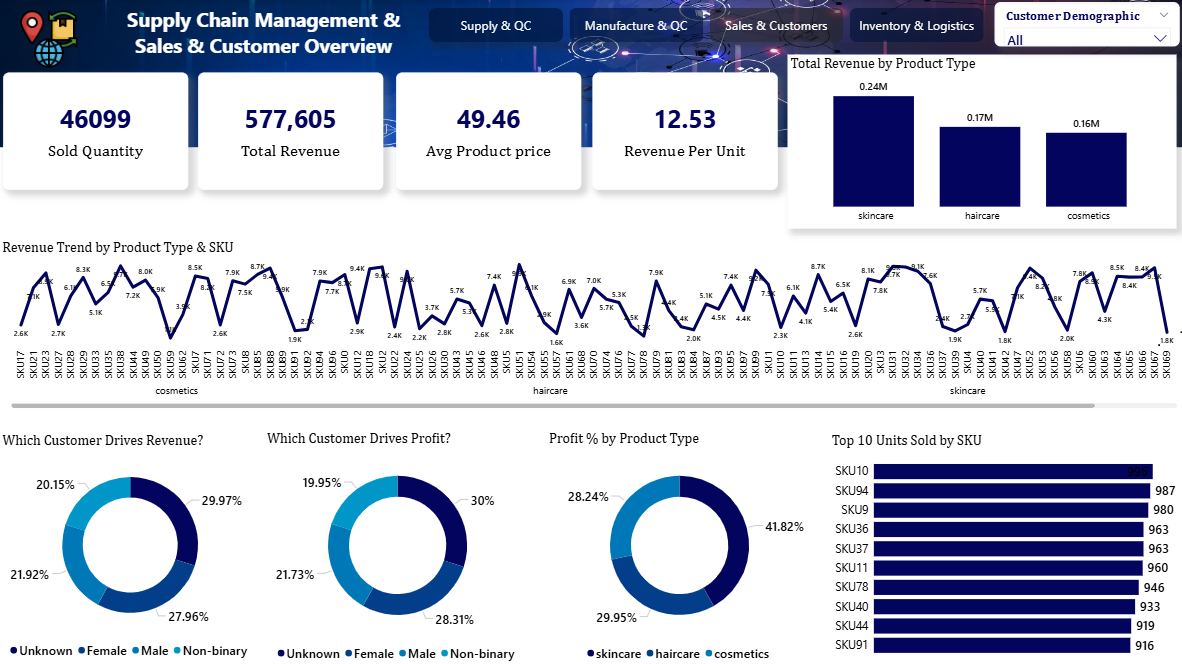

The page's visual inventory and layout, read from the dashboard file:
{"tool":"powerbi","page":{"name":"Sales & Customers","canvas":[1920,1080],"ordinal":2},"visuals":[{"type":"image","box":[0,0,1920,240],"z":0},{"type":"image","box":[0,16,168,96],"z":1000},{"type":"textbox","box":[168,6,528,96],"z":2000},{"type":"cardVisual","fields":{"Data":["supply_chain_data.Sold Quantity"]},"box":[10,120,300,190],"z":3000},{"type":"cardVisual","fields":{"Data":["supply_chain_data.Avg Product price"]},"box":[645,120,300,190],"z":4000},{"type":"cardVisual","fields":{"Data":["supply_chain_data.Revenue Per Unit"]},"box":[965,120,300,190],"z":5000},{"type":"cardVisual","fields":{"Data":["supply_chain_data.Total Revenue"]},"box":[325,120,300,190],"z":6000},{"type":"donutChart","title":"Profit % by Product Type","fields":{"Category":["supply_chain_data.Product_Type"],"Y":["supply_chain_data.Profit %"]},"box":[888,696,432,384],"z":7000},{"type":"textbox","box":[5,340,190,45],"z":8000},{"type":"textbox","box":[660,340,190,45],"z":9000},{"type":"textbox","box":[1310,340,190,45],"z":10000},{"type":"donutChart","title":"Which Customer Drives Revenue?","fields":{"Category":["supply_chain_data.Customer_Demographics"],"Y":["supply_chain_data.Total Revenue"]},"box":[0,696,432,384],"z":11000},{"type":"donutChart","title":"Which Customer Drives Profit?","fields":{"Category":["supply_chain_data.Customer_Demographics"],"Y":["supply_chain_data.Profit"]},"box":[432,696,432,384],"z":12000},{"type":"clusteredColumnChart","title":"Total Revenue by Product Type","fields":{"Category":["supply_chain_data.Product_Type"],"Y":["supply_chain_data.Total Revenue"]},"box":[1280,90,630,282],"z":13000},{"type":"clusteredBarChart","title":"Top 10 Units Sold by SKU","fields":{"Category":["supply_chain_data.SKU"],"Y":["supply_chain_data.Total Units Sold"]},"box":[1344,696,576,384],"z":14000},{"type":"lineChart","title":"Revenue Trend by Product Type & SKU","fields":{"Category":["supply_chain_data.Product_Type","supply_chain_data.SKU"],"Y":["supply_chain_data.Total Revenue"]},"box":[0,384,1920,288],"z":15000},{"type":"pageNavigator","box":[700,15,900,55],"z":16000},{"type":"slicer","fields":{"Values":["supply_chain_data.Customer_Demographics"]},"box":[1615,5,300,72],"z":17000}]}

Visuals, with their boxes in screenshot pixels (x1, y1, x2, y2), scaled from the page's 1920x1080 canvas onto the 1182x664 screenshot:
image: x1=0 y1=0 x2=1181 y2=148
image: x1=0 y1=10 x2=103 y2=69
textbox: x1=103 y1=4 x2=428 y2=63
cardVisual - supply_chain_data.Sold Quantity: x1=6 y1=74 x2=191 y2=191
cardVisual - supply_chain_data.Avg Product price: x1=397 y1=74 x2=582 y2=191
cardVisual - supply_chain_data.Revenue Per Unit: x1=594 y1=74 x2=779 y2=191
cardVisual - supply_chain_data.Total Revenue: x1=200 y1=74 x2=385 y2=191
"Profit % by Product Type" donutChart: x1=547 y1=428 x2=813 y2=663
textbox: x1=3 y1=209 x2=120 y2=237
textbox: x1=406 y1=209 x2=523 y2=237
textbox: x1=806 y1=209 x2=923 y2=237
"Which Customer Drives Revenue?" donutChart: x1=0 y1=428 x2=266 y2=663
"Which Customer Drives Profit?" donutChart: x1=266 y1=428 x2=532 y2=663
"Total Revenue by Product Type" clusteredColumnChart: x1=788 y1=55 x2=1176 y2=229
"Top 10 Units Sold by SKU" clusteredBarChart: x1=827 y1=428 x2=1181 y2=663
"Revenue Trend by Product Type & SKU" lineChart: x1=0 y1=236 x2=1181 y2=413
pageNavigator: x1=431 y1=9 x2=985 y2=43
slicer - supply_chain_data.Customer_Demographics: x1=994 y1=3 x2=1179 y2=47
